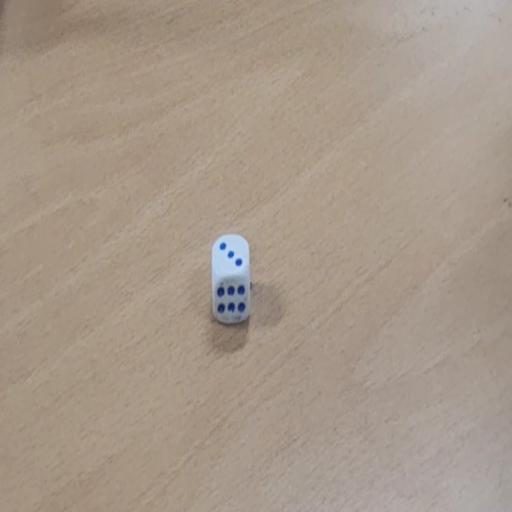dice_3: (211, 233, 251, 326)
